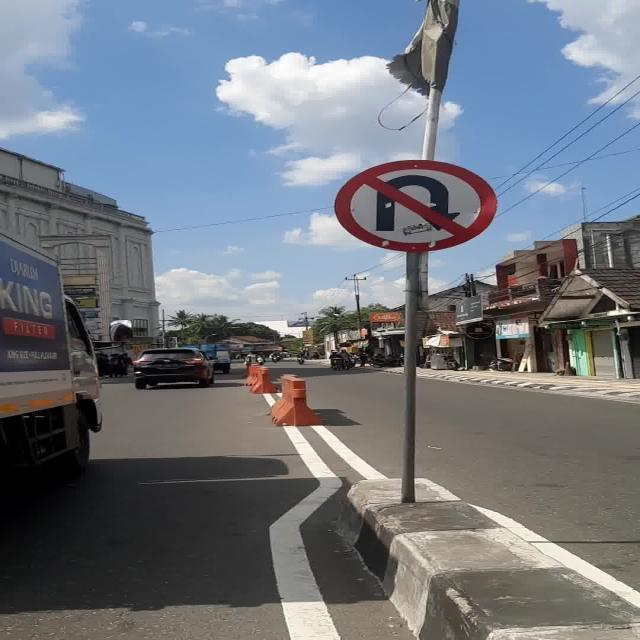Dilarang Putar Balik: (334, 159, 497, 252)
